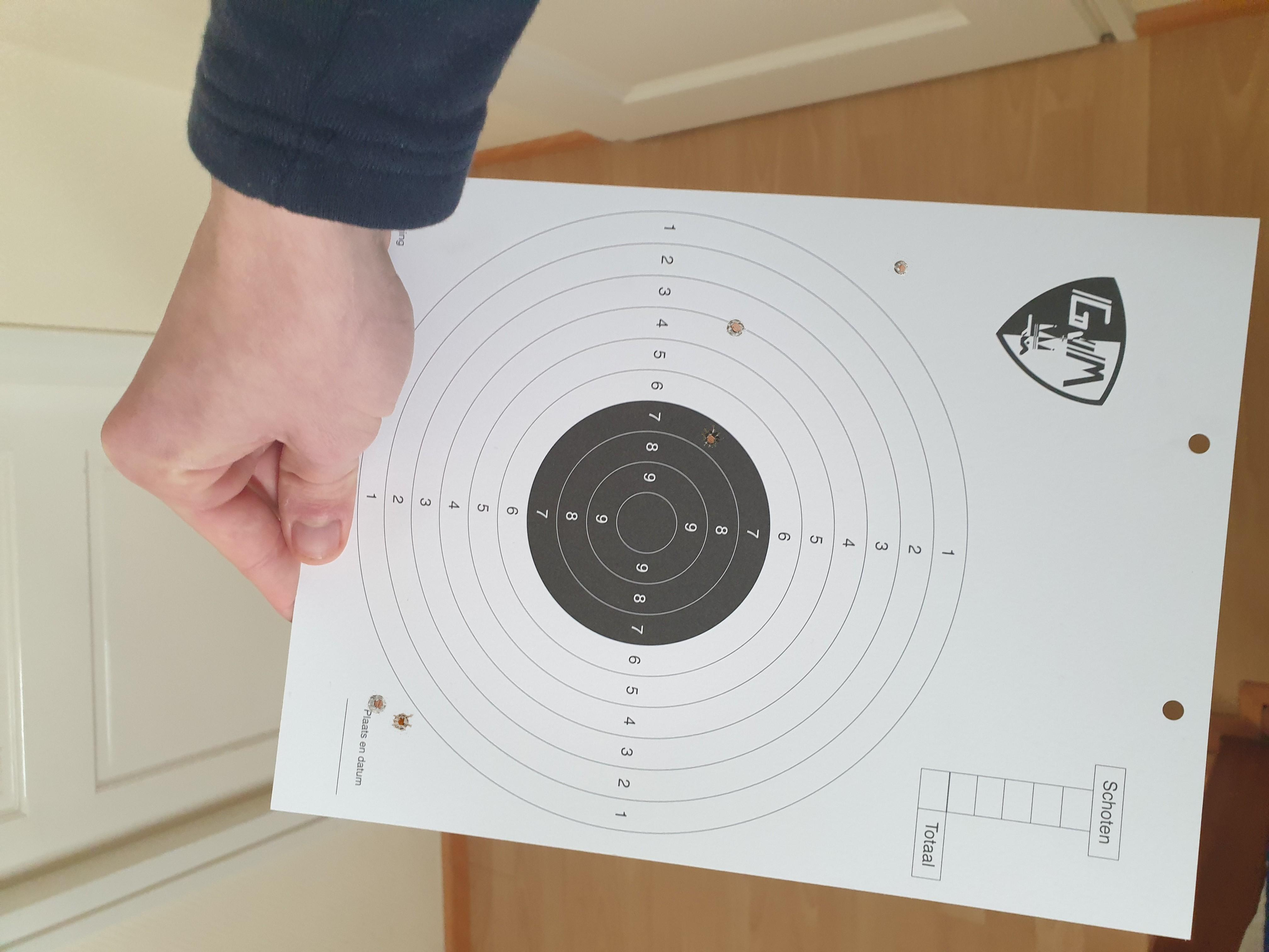hole: (701, 425, 721, 447), (391, 712, 413, 731), (368, 694, 386, 714), (726, 319, 744, 337), (893, 260, 909, 276)
